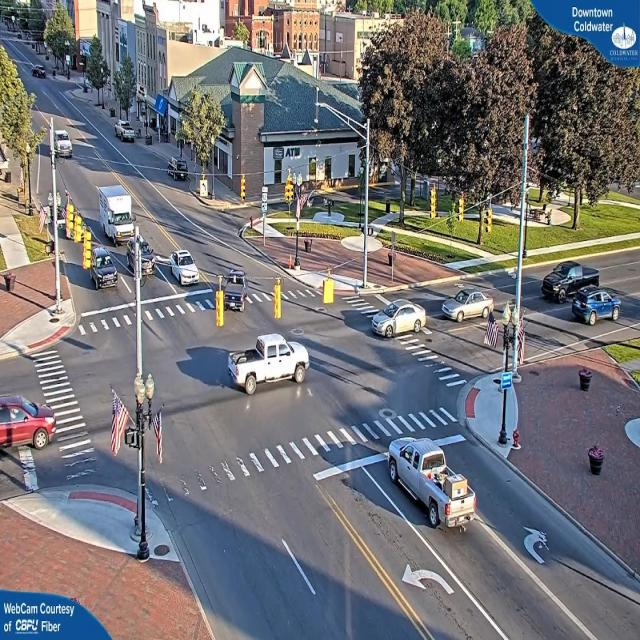car: (386, 440, 476, 538), (232, 334, 308, 395), (0, 395, 56, 453), (542, 262, 602, 300), (372, 302, 422, 337), (572, 286, 618, 324), (446, 289, 494, 323), (165, 251, 201, 287), (127, 235, 159, 274), (89, 249, 117, 287), (225, 268, 249, 312), (51, 128, 73, 161), (165, 158, 189, 180), (116, 122, 136, 143)
truck: (102, 184, 138, 245)
